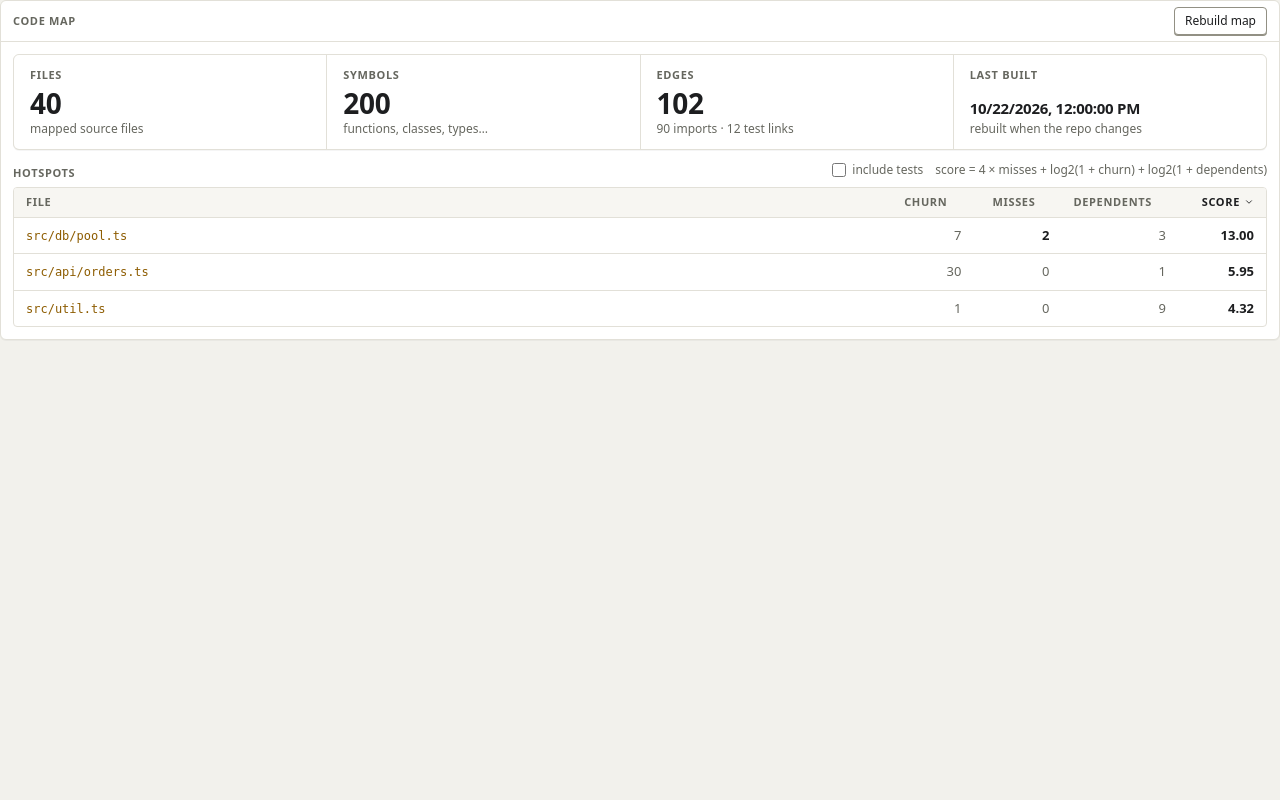
Test: an importer in the module panel opens that file
What coordinates should you click on to do the following:
click the button "src/db/pool.ts"
I would click on:
 (77, 236)
Its box is [26, 226, 127, 244].
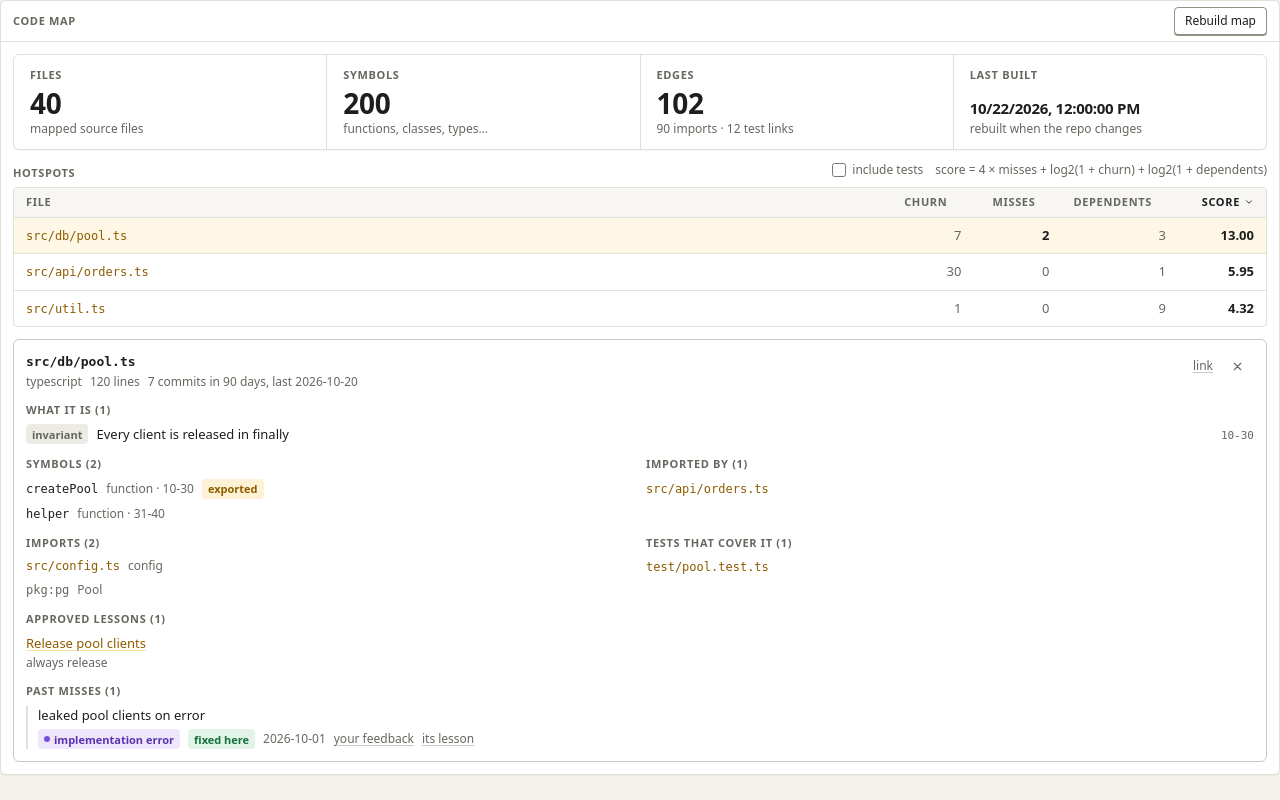
What coordinates should you click on to do the following:
click the button "src/api/orders.ts" below "Imported by"
I would click on:
 (707, 488)
Its box is [646, 480, 769, 498].
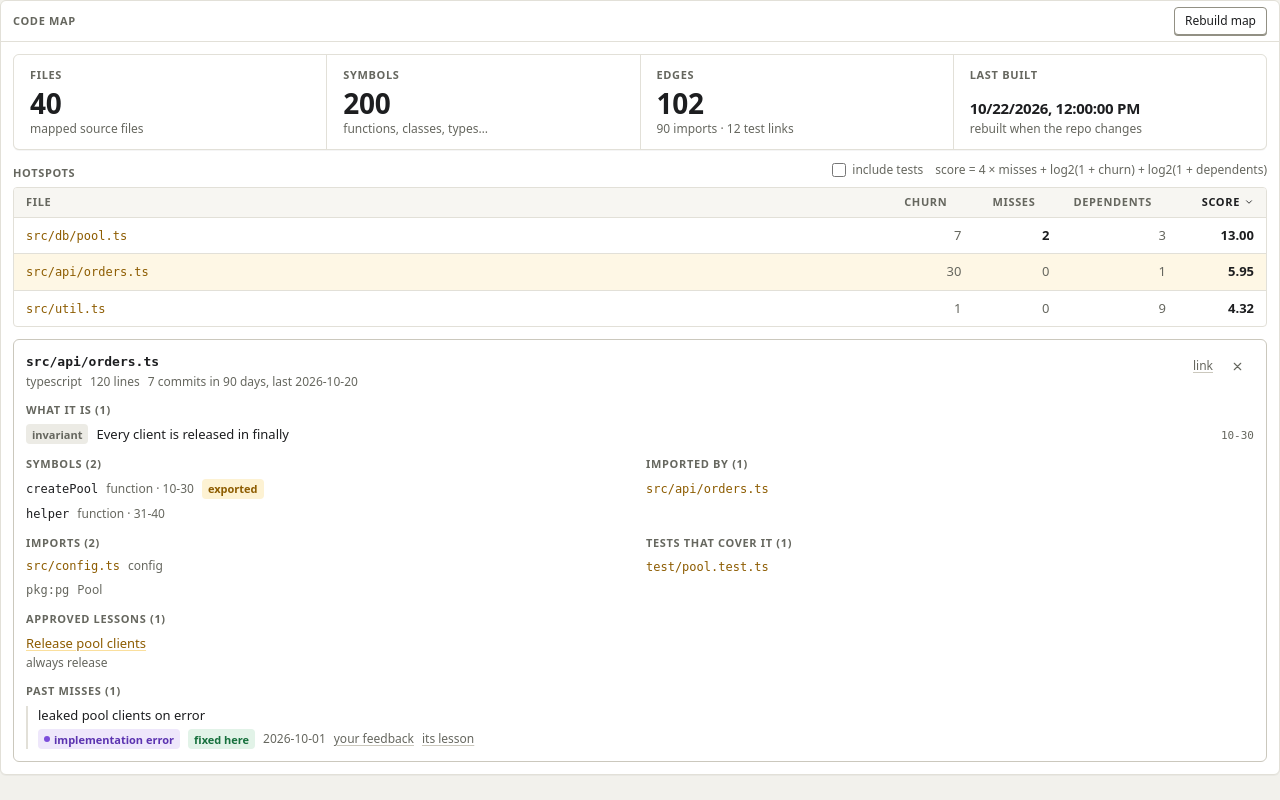
Expected: the element named "module src/api/orders.ts" is shown, [13, 339, 1267, 762]
